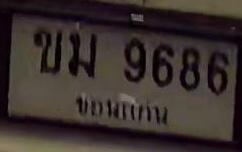number: (30, 18, 233, 97)
province: (71, 89, 171, 132)
